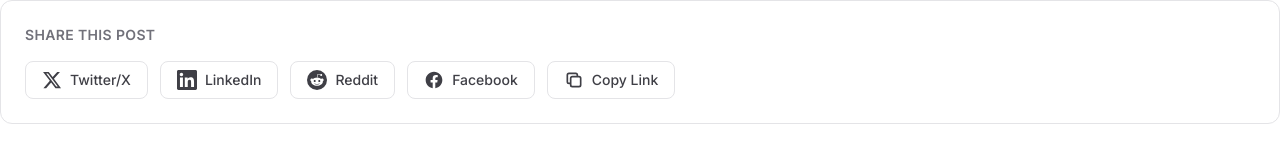
SocialShare › should show "Copied!" feedback after copying
Step 1. Click the button labelled "Copy Link" → (611, 80), box [547,61,675,99]
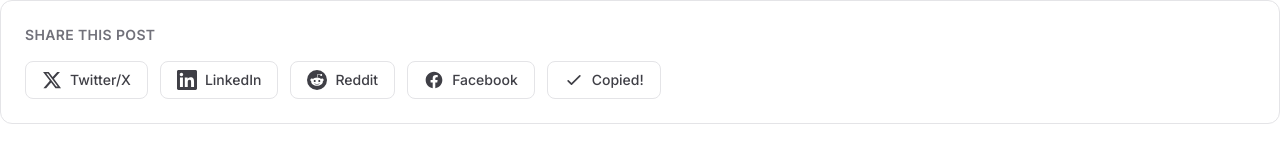
expect the text "Copied!" is shown: met, box [592,70,644,90]
